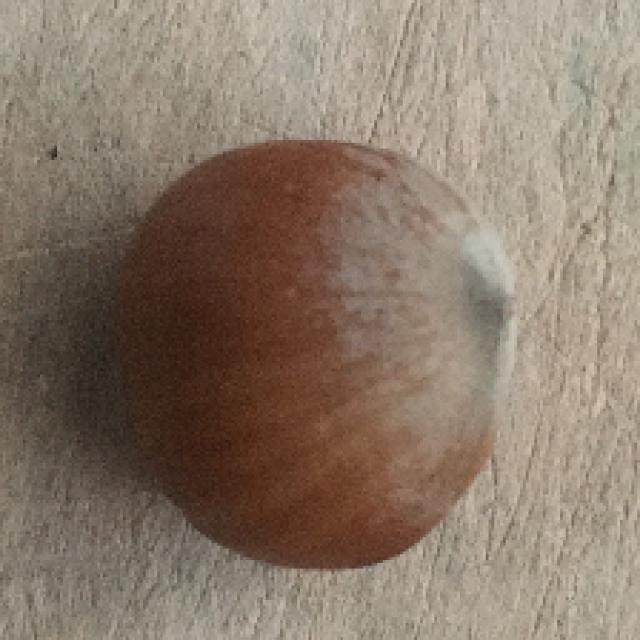qualityHazelnut: (94, 124, 521, 586)
